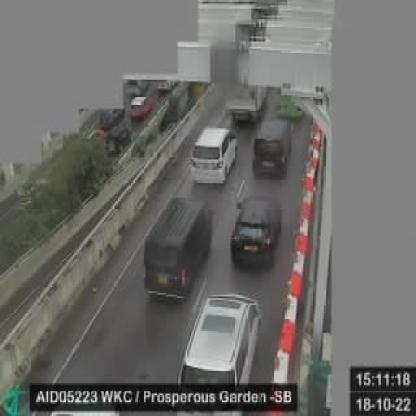Car: (174, 292, 260, 409), (142, 194, 213, 305), (228, 193, 285, 273), (188, 124, 239, 186), (250, 118, 294, 184), (106, 122, 130, 153), (130, 95, 155, 122)
